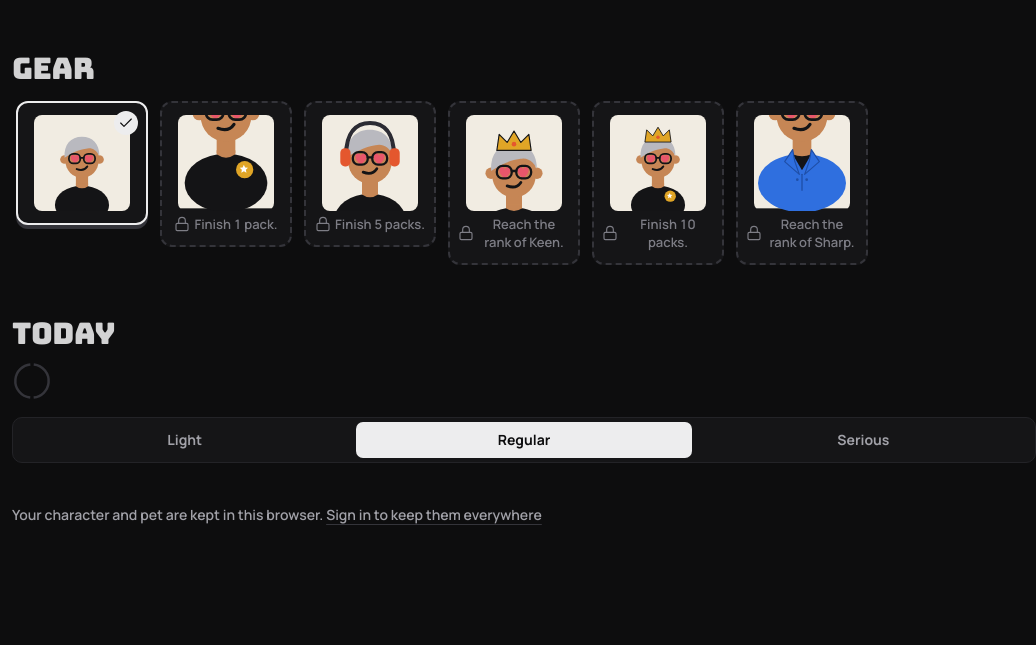
it: the goal on You › a ring of as many parts as the goal, filled by today, and the switch changes it
(page scrolled)
Check: the picture named "0 of 2 today" is shown, box [12,361,52,401]
Click the radio button labelled "Serious".
click(863, 440)  # box [696,422,1031,458]
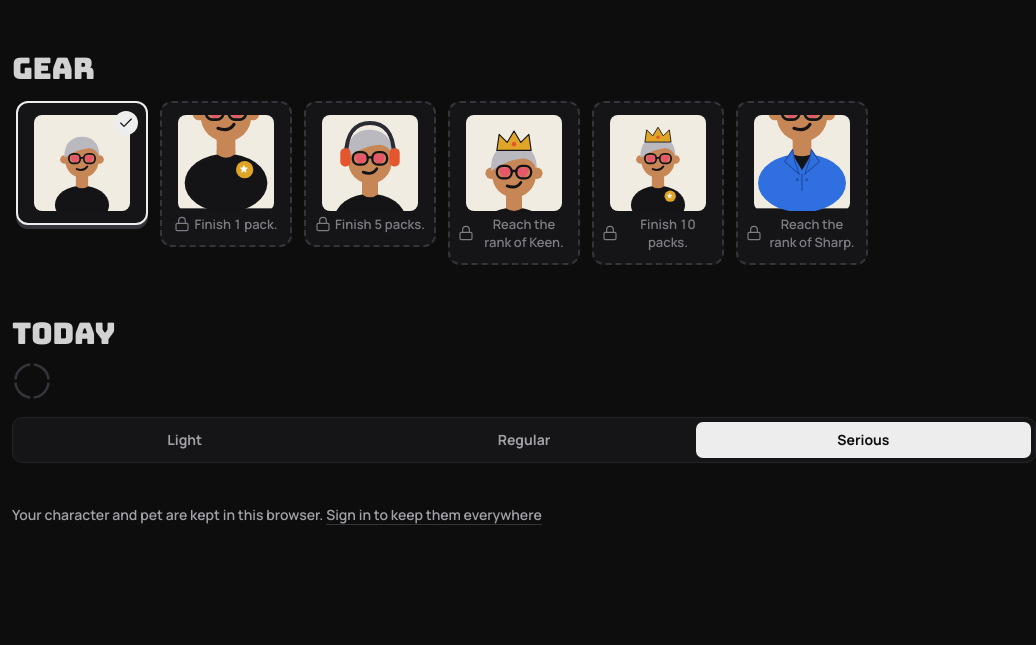
Check: the picture named "0 of 4 today" is shown, box [12,361,52,401]
